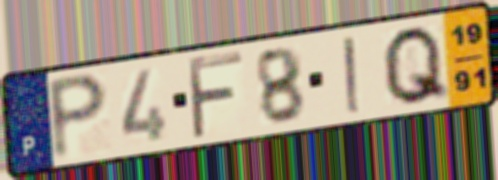4: (117, 65, 169, 144)
8: (253, 45, 308, 126)
F: (184, 49, 247, 143)
I: (340, 33, 364, 117)
P: (45, 71, 111, 164)
Q: (379, 23, 453, 109)
